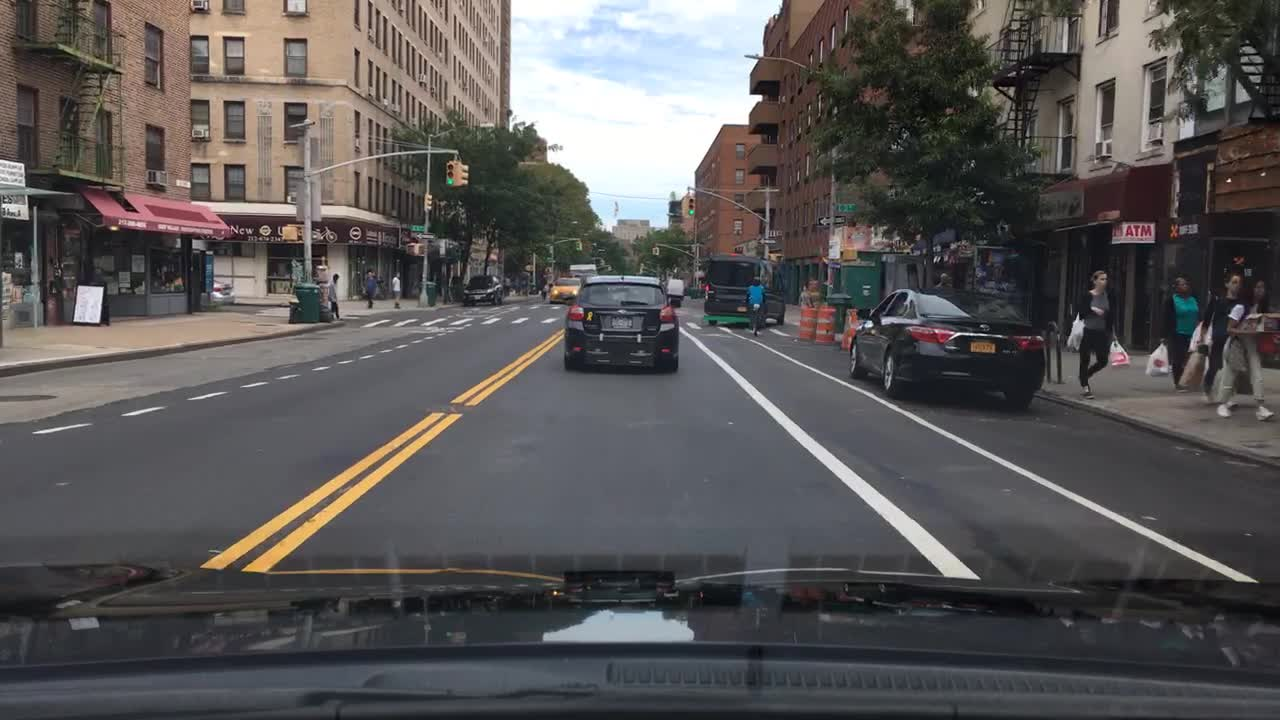bike: (748, 304, 761, 338), (539, 289, 548, 301)
car: (847, 286, 1050, 405), (561, 274, 679, 373), (699, 257, 787, 327), (460, 273, 505, 306), (551, 276, 582, 303)
person: (1216, 277, 1276, 421), (1198, 271, 1245, 403), (1071, 270, 1116, 397), (1165, 276, 1200, 390), (362, 268, 376, 309), (1231, 251, 1252, 277), (329, 273, 340, 316), (391, 271, 404, 307), (425, 274, 437, 304), (935, 271, 951, 286)
rider: (748, 278, 761, 311), (537, 274, 546, 286)
traffic light: (460, 164, 472, 185), (445, 160, 454, 187), (688, 193, 694, 215), (405, 244, 417, 254), (652, 247, 659, 259), (426, 193, 431, 209), (576, 241, 580, 253), (455, 184, 470, 185)
traffic sign: (819, 216, 843, 222), (837, 204, 856, 210), (416, 233, 434, 239), (409, 224, 425, 230), (759, 237, 774, 242)
